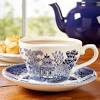cup: (18, 35, 99, 81)
